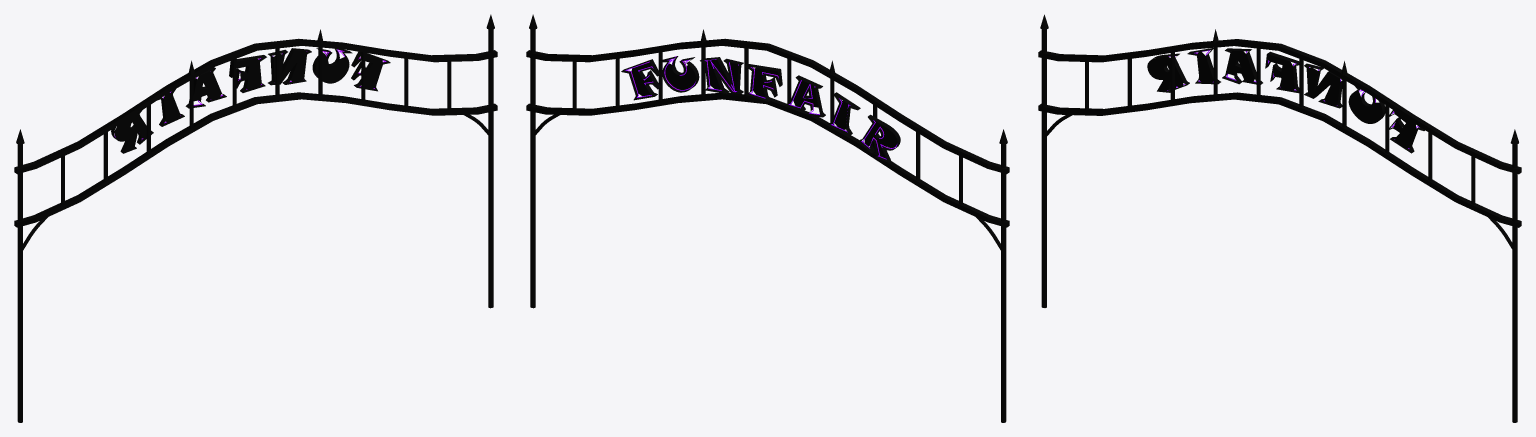
Rendered from fence_gate.fbx.
3 renders of one model, left to right at view 1: azimuth 30°, elevation 25°; view 2: azimuth 150°, elevation 25°; view 3: azimuth 330°, elevation 25°, orthographic.
Parts seen in each view (by area): view 1: Bars, Prongs Gate, Text Outside; view 2: Bars, Text Outside, Prongs Gate, Text Inside; view 3: Bars, Prongs Gate, Text Outside.
Part boxes in pixels (x1=…): Bars: x1=14, y1=38, x2=497, y2=227; Prongs Gate: x1=16, y1=14, x2=494, y2=422; Text Outside: x1=111, y1=48, x2=390, y2=153; Bars: x1=526, y1=38, x2=1009, y2=227; Text Outside: x1=621, y1=56, x2=900, y2=162; Prongs Gate: x1=529, y1=14, x2=1007, y2=422; Text Inside: x1=625, y1=56, x2=897, y2=159; Bars: x1=1038, y1=39, x2=1521, y2=227; Prongs Gate: x1=1040, y1=14, x2=1518, y2=422; Text Outside: x1=1147, y1=48, x2=1424, y2=153.
Size of the model in its own units: 1532 by 975 by 54.34.
